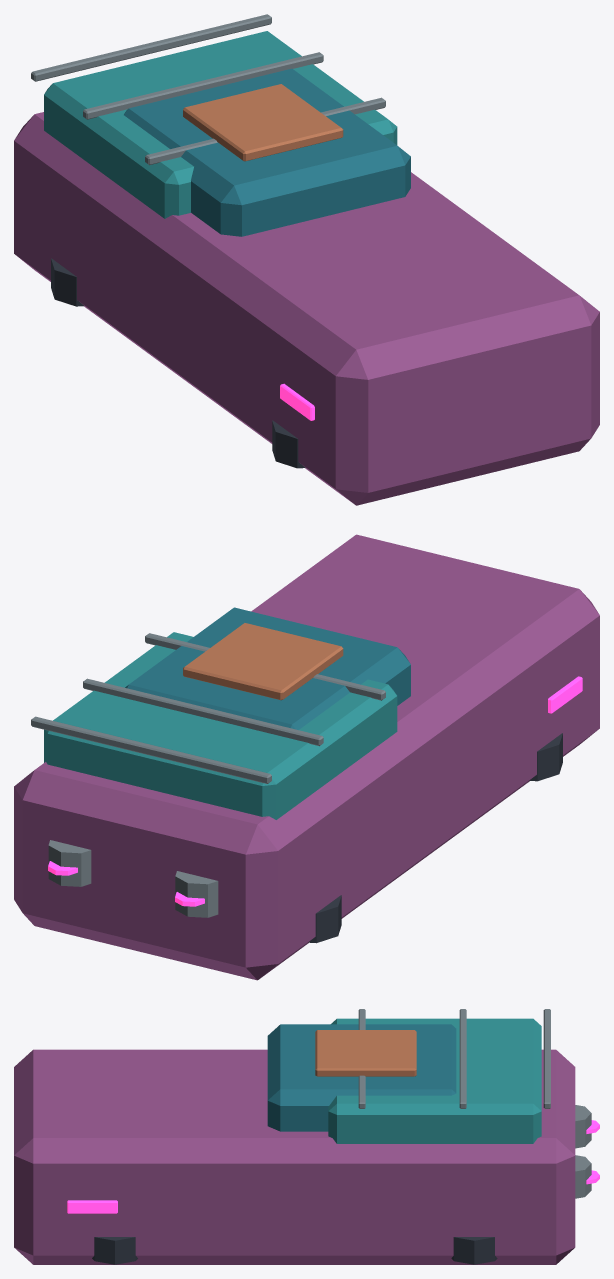
Rendered from vehicles_034_seed11.glb.
3 views of the same model, one above another, from view 1: azimuth 30°, elevation 25°; view 2: azimuth 150°, elevation 25°; view 3: azimuth 270°, elevation 25° (orthographic). The views are drawn at different scales.
Parts seen in each view (by area): view 1: vehicles_034_seed11; view 2: vehicles_034_seed11; view 3: vehicles_034_seed11.
Boxes of the visible parts, x1,y1,x2,y2 form: vehicles_034_seed11: [14, 14, 599, 505]; vehicles_034_seed11: [14, 534, 599, 980]; vehicles_034_seed11: [14, 1009, 599, 1264].
Bounding box in the file's own units: 2.21 × 1.57 × 4.86.
